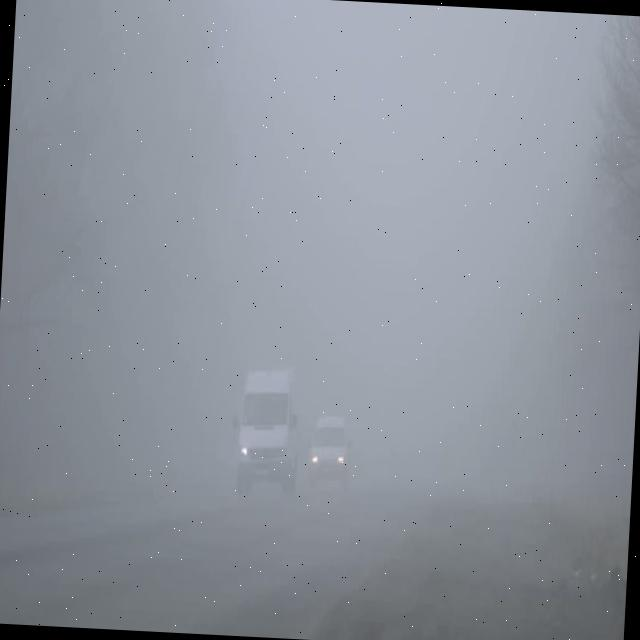car: (232, 367, 300, 495), (304, 416, 351, 494)
